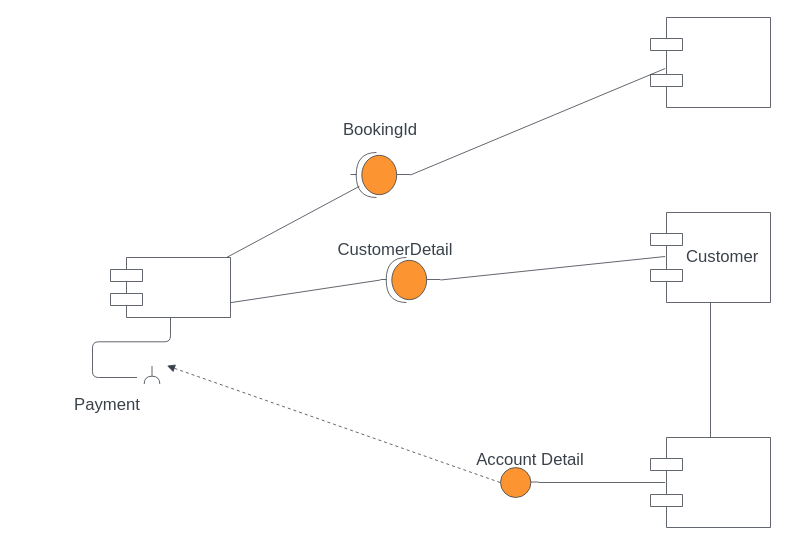
Some shapes in this 788 by 545 pixel diagram are drawn without their labels. Here are the shapes that lost their labels. From the top down, the box of each, then its label:
(650, 17, 770, 107): Service
(110, 257, 230, 317): Booking
(650, 437, 770, 527): Account
